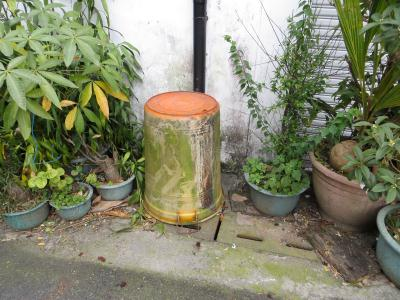bucket: (140, 88, 226, 229)
